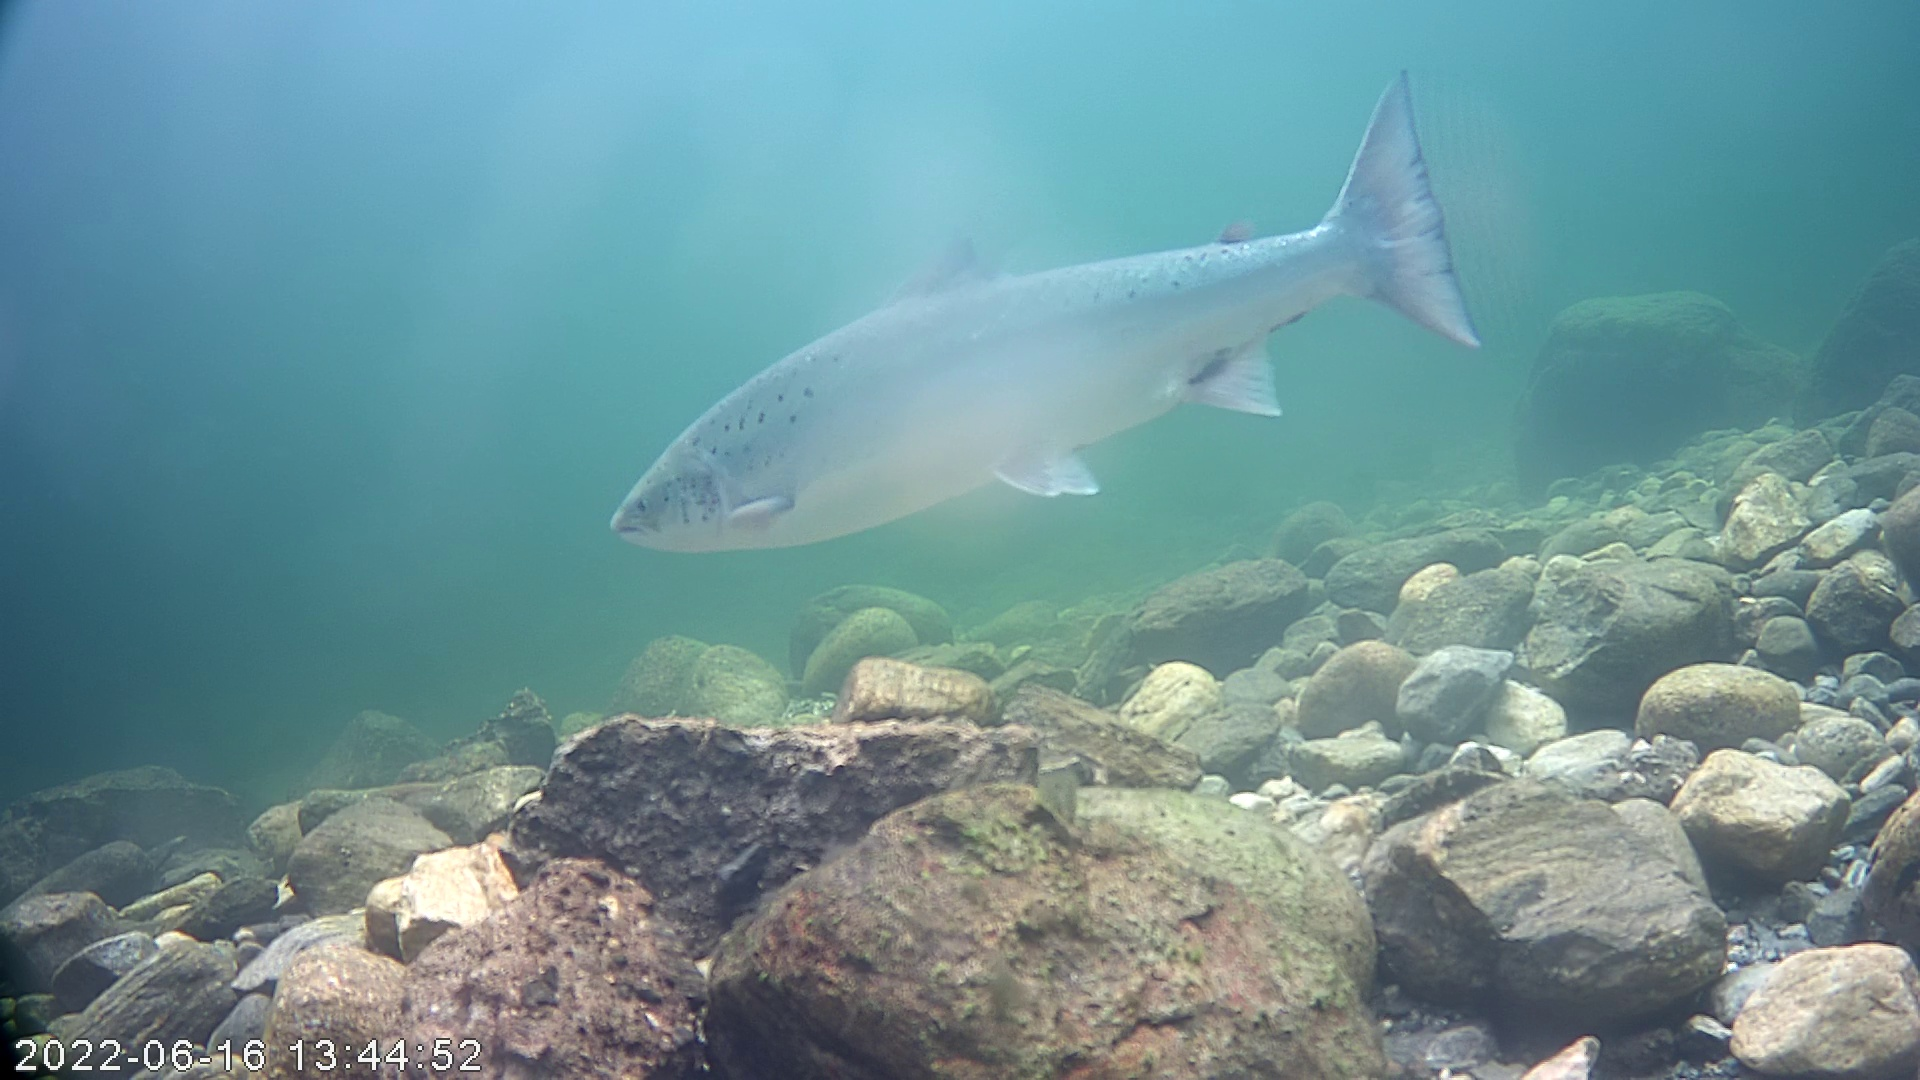salmon: (608, 65, 1487, 559)
